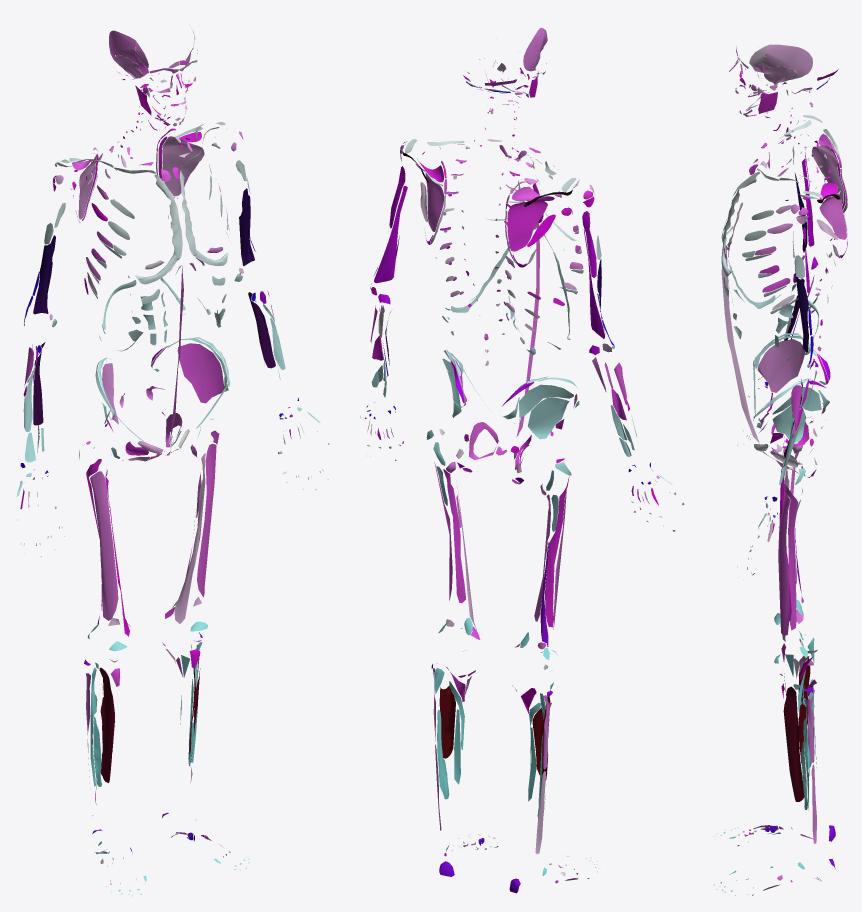
Rendered from myotwin_insertions.glb.
3 renders of one model, left to right at view 1: azimuth 30°, elevation 25°; view 2: azimuth 150°, elevation 25°; view 3: azimuth 270°, elevation 25°, orthographic. The views are drawn at different scales.
Parts seen in each view (by area): view 1: Vastus intermedius muscle.or.001, Iliacus muscle.ol.001, Subscapularis muscle.ol.001, Vastus intermedius muscle.ol.001, Tibialis anterior muscle.or.001, Vastus medialis muscle.ol.001, Brachialis muscle.or.001, Brachialis muscle.ol.001, Ulnar head of flexor carpi ulnaris.ol.001, Temporalis muscle.o2r.001; view 2: Infraspinatus muscle.or.001, Gluteus minimus muscle.or.001, Vastus lateralis muscle.or.001, Adductor magnus.el.001, Tibialis posterior muscle.ol.001, Medial head of triceps brachii.ol.001, Gluteus medius muscle.or.001, Infraspinatus muscle.ol.001, Rectus abdominis muscle.er.001; view 3: Iliacus muscle.or.001, Tibialis anterior muscle.ol.001, Vastus intermedius muscle.ol.001, Temporalis muscle.o2l.001, Rectus abdominis muscle.el.001, Vastus lateralis muscle.ol.001, Subscapularis muscle.or.001, Infraspinatus muscle.ol.001, Gluteus minimus muscle.ol.001, Brachialis muscle.ol.001, Gluteus medius muscle.ol.001, Temporalis muscle.o4l.001 (+7 smaller).
Boxes of the visible parts, x1=… form: Vastus intermedius muscle.or.001: x1=90, y1=471, x2=118, y2=620; Iliacus muscle.ol.001: x1=177, y1=343, x2=224, y2=403; Subscapularis muscle.ol.001: x1=162, y1=136, x2=204, y2=196; Vastus intermedius muscle.ol.001: x1=197, y1=443, x2=216, y2=597; Tibialis anterior muscle.or.001: x1=99, y1=667, x2=114, y2=782; Vastus medialis muscle.ol.001: x1=174, y1=453, x2=205, y2=623; Brachialis muscle.or.001: x1=33, y1=235, x2=55, y2=314; Brachialis muscle.ol.001: x1=239, y1=188, x2=254, y2=265; Ulnar head of flexor carpi ulnaris.ol.001: x1=248, y1=292, x2=275, y2=368; Temporalis muscle.o2r.001: x1=109, y1=30, x2=139, y2=64; Infraspinatus muscle.or.001: x1=507, y1=196, x2=554, y2=251; Gluteus minimus muscle.or.001: x1=528, y1=397, x2=569, y2=439; Vastus lateralis muscle.or.001: x1=545, y1=476, x2=569, y2=627; Adductor magnus.el.001: x1=443, y1=469, x2=480, y2=639; Tibialis posterior muscle.ol.001: x1=439, y1=686, x2=455, y2=758; Medial head of triceps brachii.ol.001: x1=374, y1=186, x2=407, y2=283; Gluteus medius muscle.or.001: x1=519, y1=384, x2=573, y2=417; Infraspinatus muscle.ol.001: x1=415, y1=163, x2=443, y2=231; Rectus abdominis muscle.er.001: x1=516, y1=223, x2=539, y2=437; Iliacus muscle.or.001: x1=757, y1=339, x2=805, y2=392; Tibialis anterior muscle.ol.001: x1=783, y1=686, x2=804, y2=801; Vastus intermedius muscle.ol.001: x1=778, y1=491, x2=790, y2=635; Temporalis muscle.o2l.001: x1=763, y1=44, x2=812, y2=77; Rectus abdominis muscle.el.001: x1=721, y1=247, x2=759, y2=443; Vastus lateralis muscle.ol.001: x1=783, y1=482, x2=798, y2=630; Subscapularis muscle.or.001: x1=812, y1=145, x2=843, y2=205; Infraspinatus muscle.ol.001: x1=819, y1=195, x2=846, y2=239; Gluteus minimus muscle.ol.001: x1=772, y1=405, x2=805, y2=442; Brachialis muscle.ol.001: x1=795, y1=269, x2=808, y2=352; Gluteus medius muscle.ol.001: x1=772, y1=387, x2=821, y2=414; Temporalis muscle.o4l.001: x1=764, y1=66, x2=798, y2=84.
Size of the model in its own units: 0.6583 by 1.65 by 0.2409.
